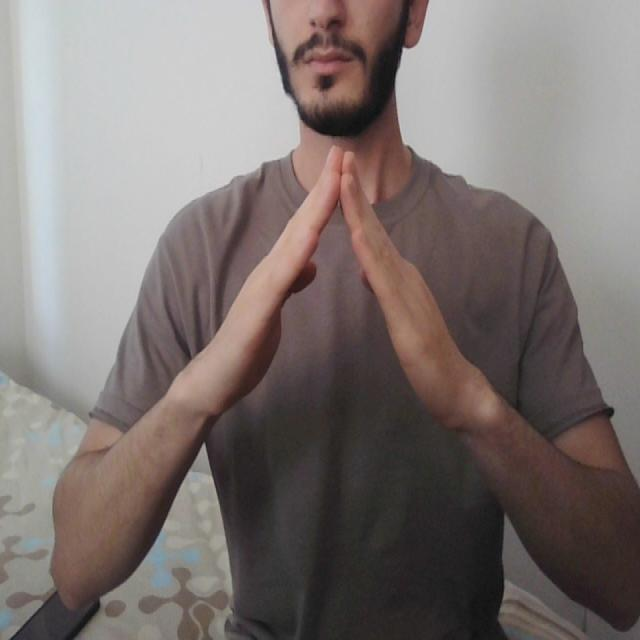Ev: (184, 142, 487, 446)
